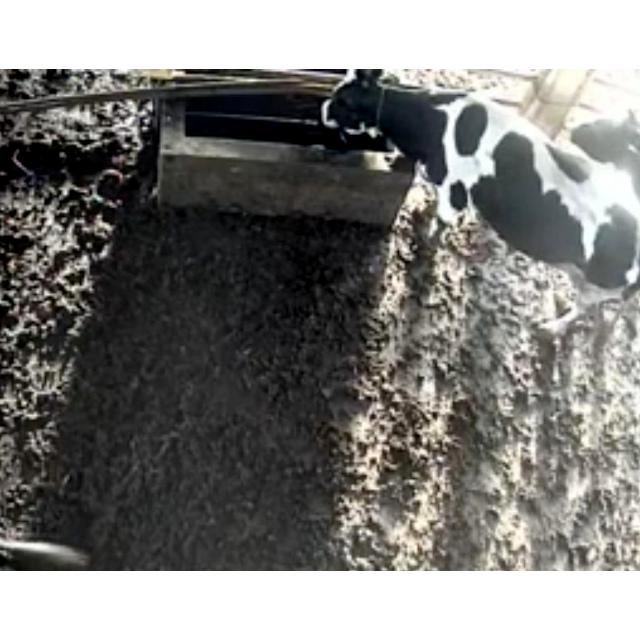drink: (302, 69, 478, 173)
